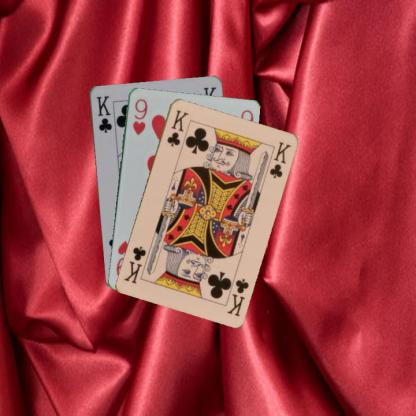9h: (130, 96, 148, 136)
Kc: (164, 107, 190, 148), (224, 276, 250, 317), (94, 93, 113, 134)
